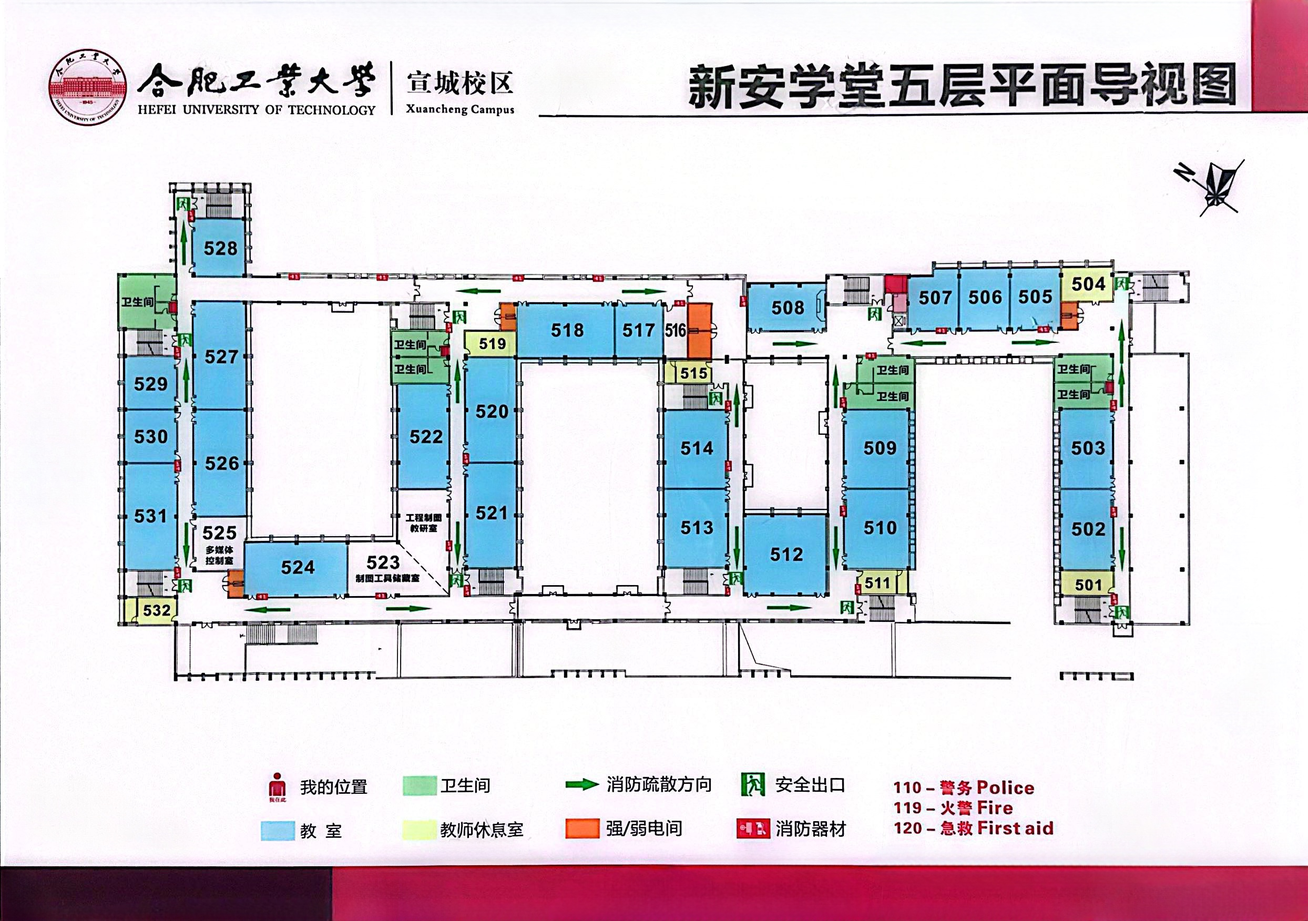501: (1061, 569, 1115, 596)
502: (1062, 489, 1114, 569)
503: (1060, 410, 1114, 489)
504: (1061, 268, 1113, 301)
505: (1011, 268, 1061, 328)
506: (959, 269, 1010, 329)
507: (909, 268, 959, 330)
508: (748, 284, 826, 330)
509: (844, 410, 909, 488)
510: (845, 488, 909, 569)
511: (856, 569, 907, 595)
512: (744, 516, 827, 595)
513: (665, 489, 728, 567)
514: (665, 410, 729, 488)
515: (664, 359, 712, 383)
516: (664, 304, 688, 358)
517: (615, 304, 663, 357)
518: (517, 304, 615, 357)
519: (465, 331, 516, 356)
520: (464, 359, 516, 461)
521: (465, 463, 517, 569)
522: (397, 385, 449, 491)
523: (397, 489, 449, 596), (348, 542, 397, 596)
524: (246, 542, 347, 597)
525: (193, 515, 244, 571)
526: (195, 410, 246, 516)
527: (193, 303, 246, 410)
528: (195, 220, 247, 277)
529: (124, 355, 177, 408)
530: (125, 408, 177, 463)
531: (125, 464, 177, 569)
532: (124, 598, 176, 624)
Exit: (1055, 592, 1114, 623), (664, 569, 730, 595), (664, 384, 729, 410), (826, 276, 884, 305), (244, 623, 318, 645), (1131, 274, 1188, 302), (858, 595, 914, 622), (193, 191, 246, 219), (391, 304, 448, 329), (465, 569, 518, 595), (124, 329, 176, 355), (125, 570, 175, 597)
Toliet: (843, 356, 915, 409), (1054, 355, 1113, 410), (119, 275, 176, 328), (391, 330, 448, 383)
